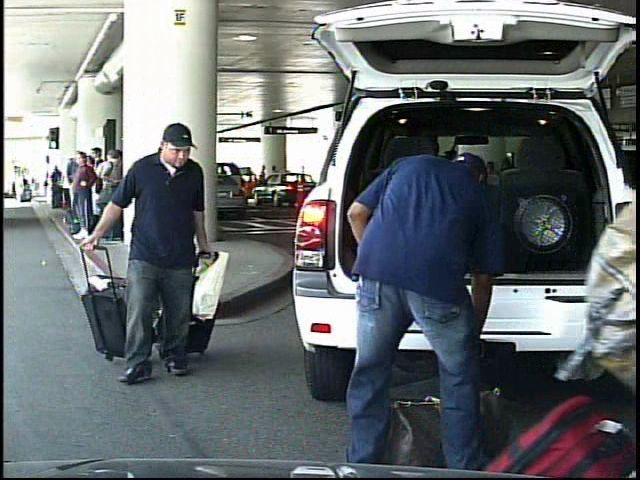person: (314, 120, 500, 476), (84, 117, 227, 395), (14, 171, 25, 202), (258, 163, 269, 180)
